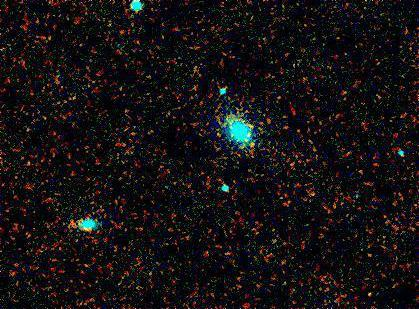star: (355, 281, 385, 309)
